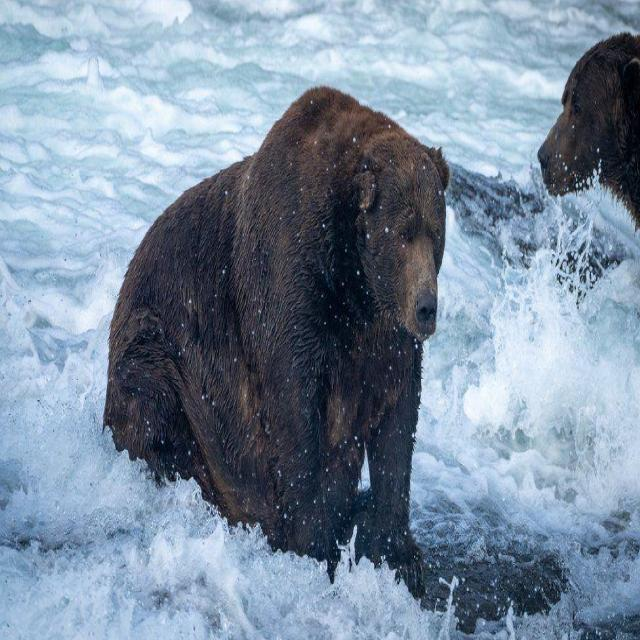Bear: (103, 86, 450, 600)
